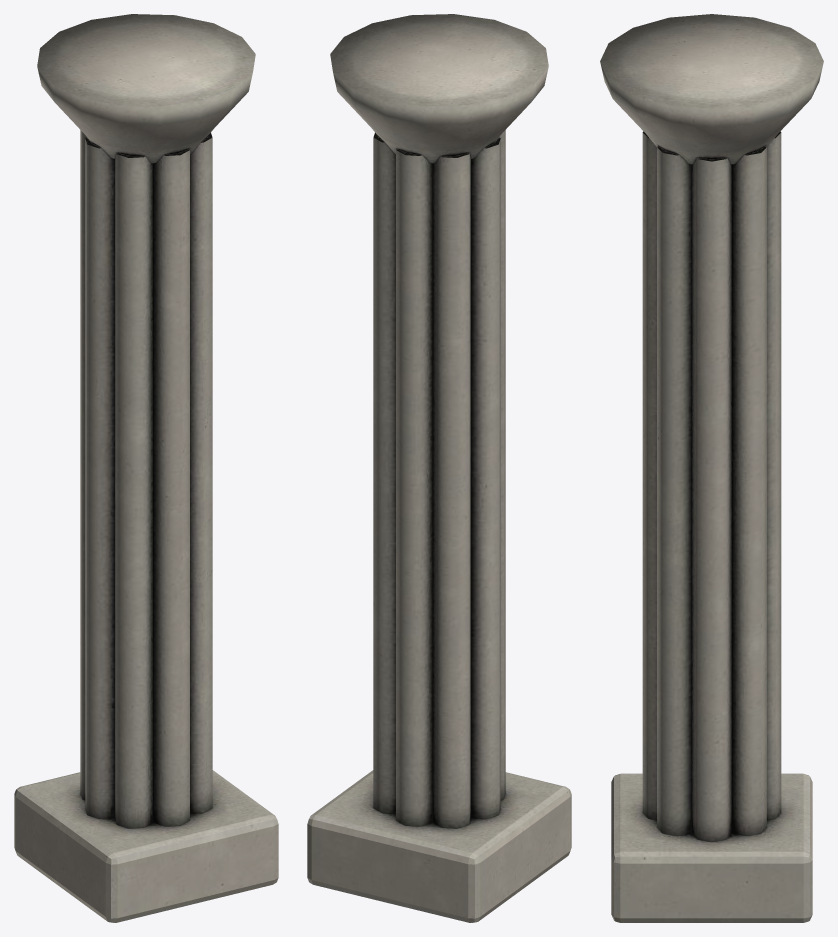
File: dg_coluna_gotica.glb
The picture shows the model from 3 angles, left to right: view 1: azimuth 30°, elevation 25°; view 2: azimuth 150°, elevation 25°; view 3: azimuth 270°, elevation 25°; orthographic projection.
Parts seen in each view (by area): view 1: dg_coluna_gotica_tronco; view 2: dg_coluna_gotica_tronco; view 3: dg_coluna_gotica_tronco.
Boxes of the visible parts, x1,y1,x2,y2 form: dg_coluna_gotica_tronco: (14,14,278,922); dg_coluna_gotica_tronco: (307,14,571,922); dg_coluna_gotica_tronco: (600,14,823,922).
Size of the model in its own units: 1 by 4.06 by 1.
1 material, 1 textured.
